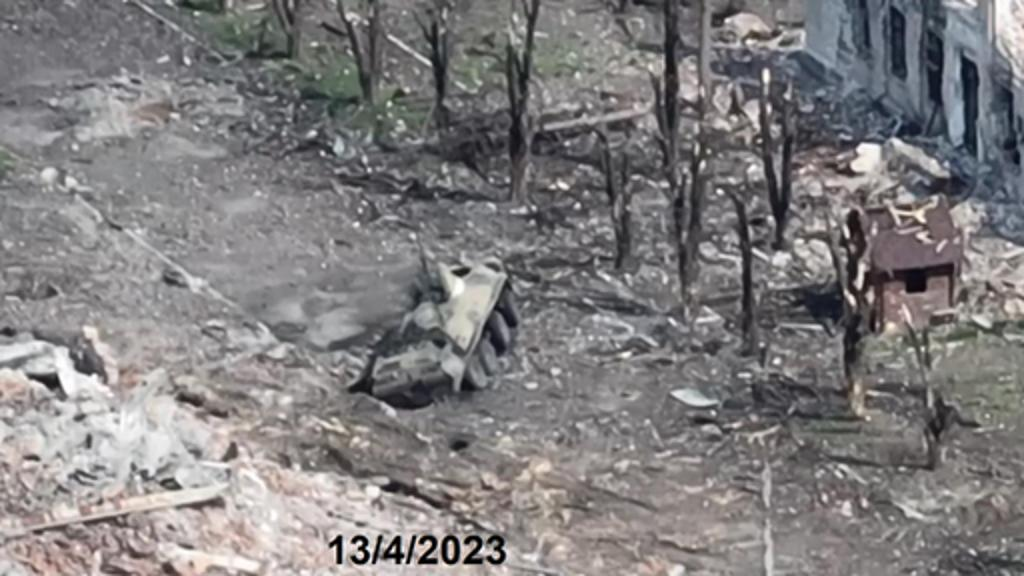APC-IFV: (354, 236, 516, 404)
